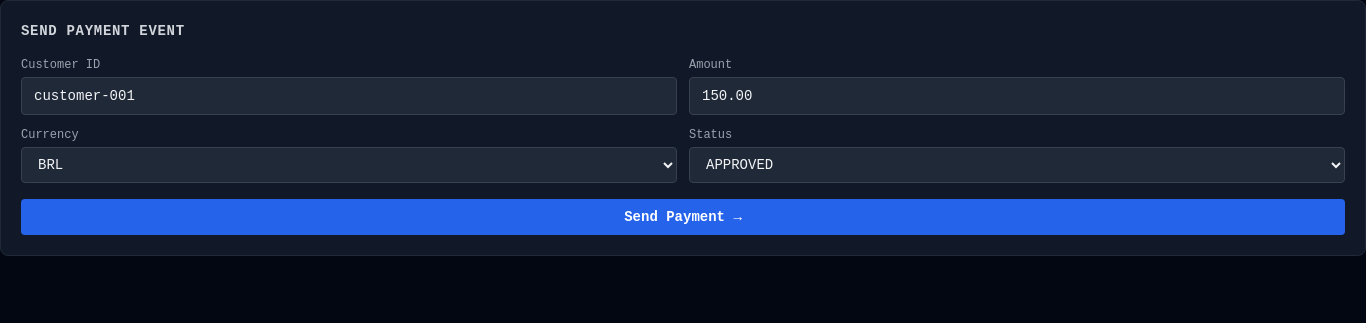
it: PaymentForm › shows error message when submission fails
Click the button "Send Payment →".
click(683, 217)  # box top-left (21, 199), bottom-right (1345, 235)
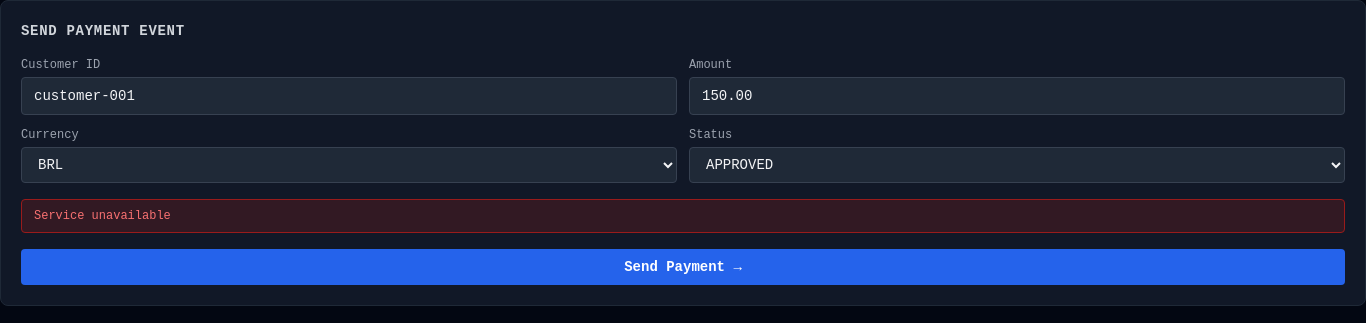
expect the text "Service unavailable" is shown: met, box top-left (21, 199), bottom-right (1345, 233)
